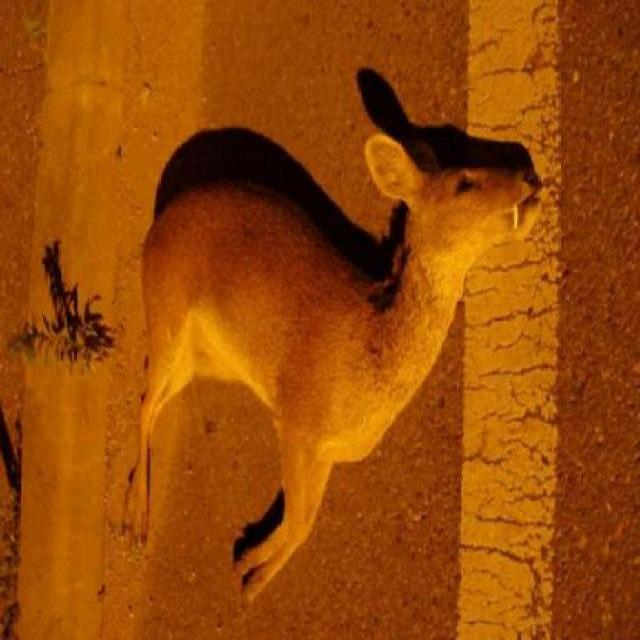deer: (127, 122, 544, 465)
